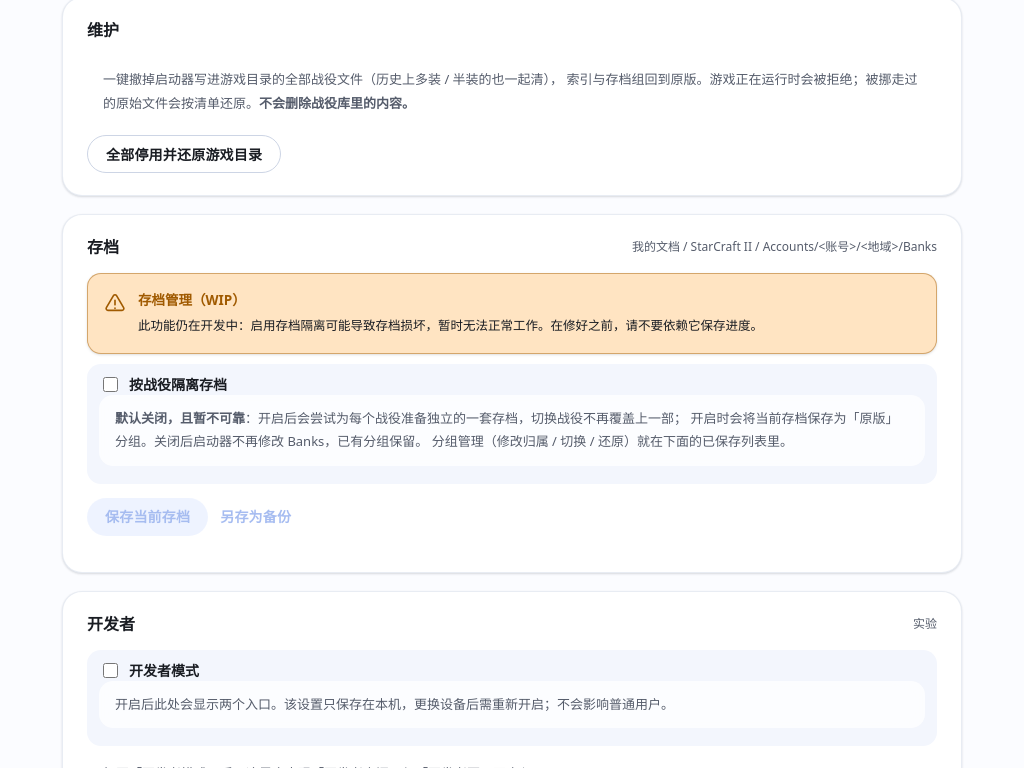
it: 设置页开启隔离：先确认 › 勾开关只弹确认框，不直接开
The image size is (1024, 768).
(page scrolled)
What coordinates should you click on to do the following:
click the checkbox labelled "按战役隔离存档"
I would click on:
 (110, 384)
Its box is [103,377,118,392].
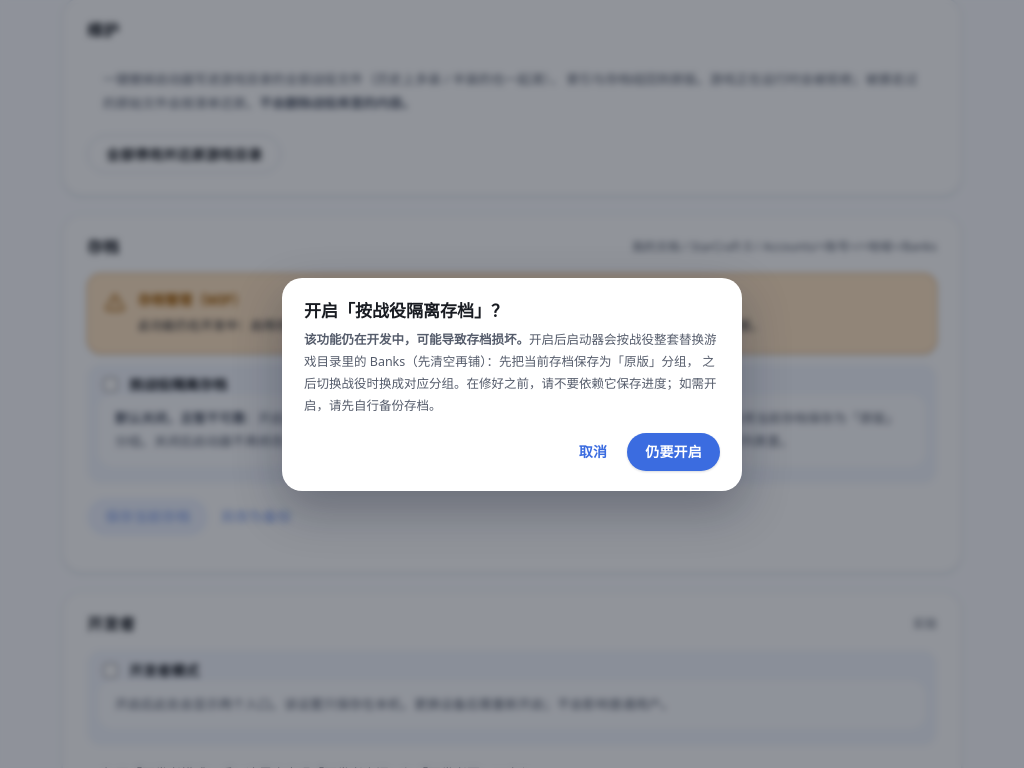
Expected: the text "可能导致存档损坏" is shown, [138,318,763,334]
Expected: the element with class "sheet" is shown
